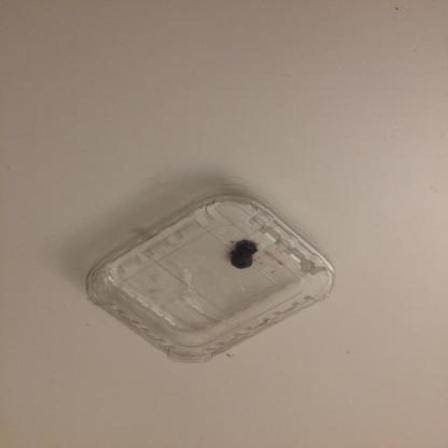Other litter: (232, 241, 259, 270)
Plastic container: (87, 177, 337, 364)
